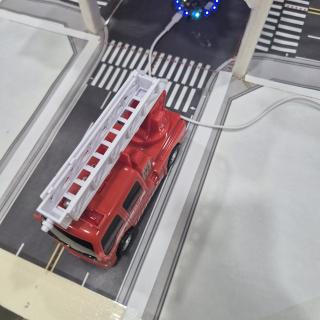Fire_truck: (34, 71, 186, 268)
